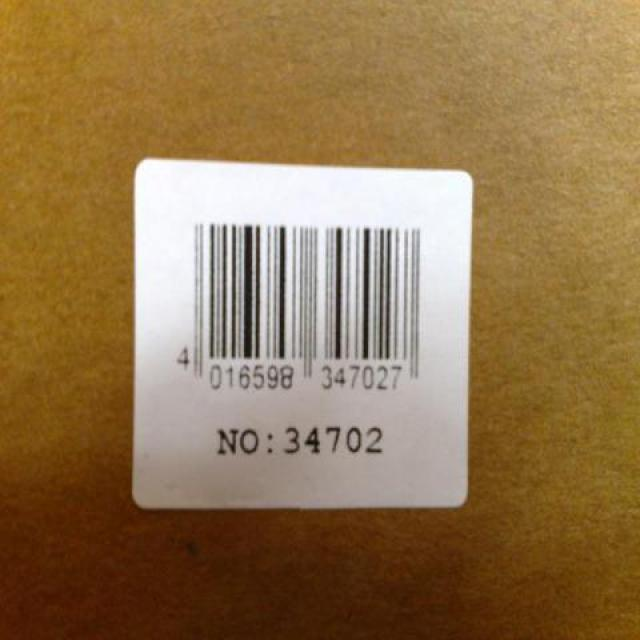Barcode: (159, 188, 449, 419)
